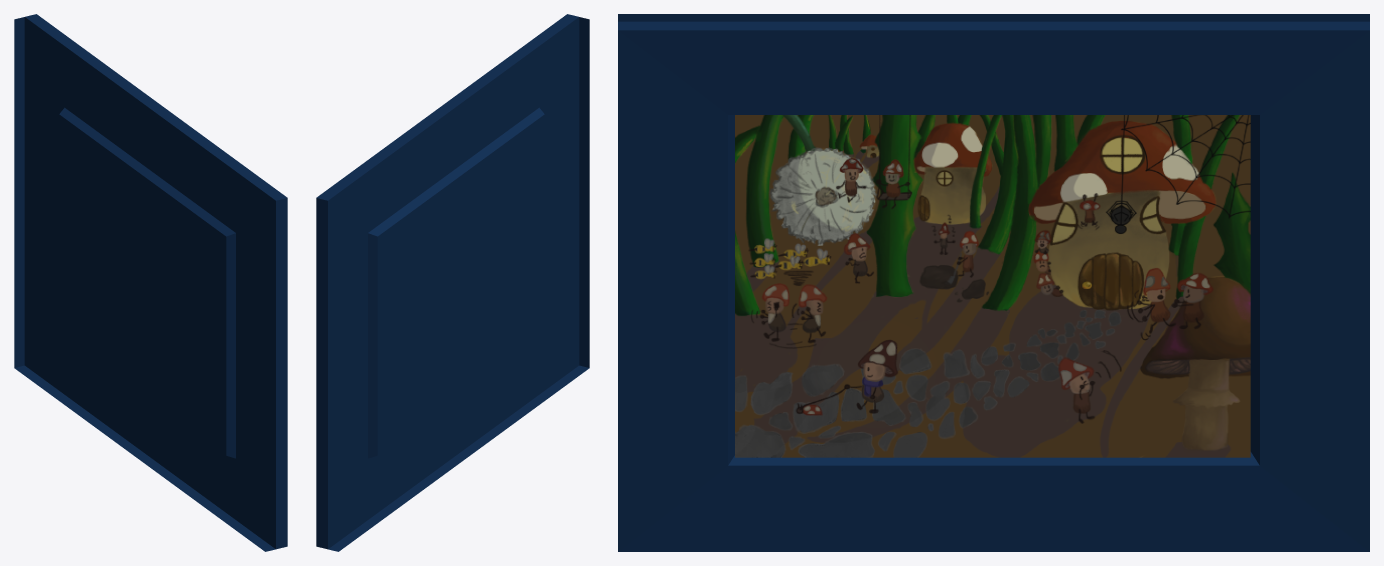
Rendered from Pilze.glb.
3 renders of one model, left to right at view 1: azimuth 30°, elevation 25°; view 2: azimuth 150°, elevation 25°; view 3: azimuth 270°, elevation 25°, orthographic. The views are drawn at different scales.
Parts seen in each view (by area): view 1: Plane001, Plane; view 2: Plane001, Plane; view 3: Plane001, Pilze, Plane.
Boxes of the visible parts, box(x1,y1,x2,y2) form: Plane001: box(24, 14, 287, 549); Plane: box(14, 17, 275, 551); Plane001: box(316, 14, 579, 549); Plane: box(328, 17, 589, 551); Plane001: box(618, 21, 1369, 551); Pilze: box(735, 115, 1250, 457); Plane: box(618, 14, 1369, 21).
Size of the model in its own units: 0.1001 by 1.49 by 1.94.
Materials: 2 (1 with a texture image).
